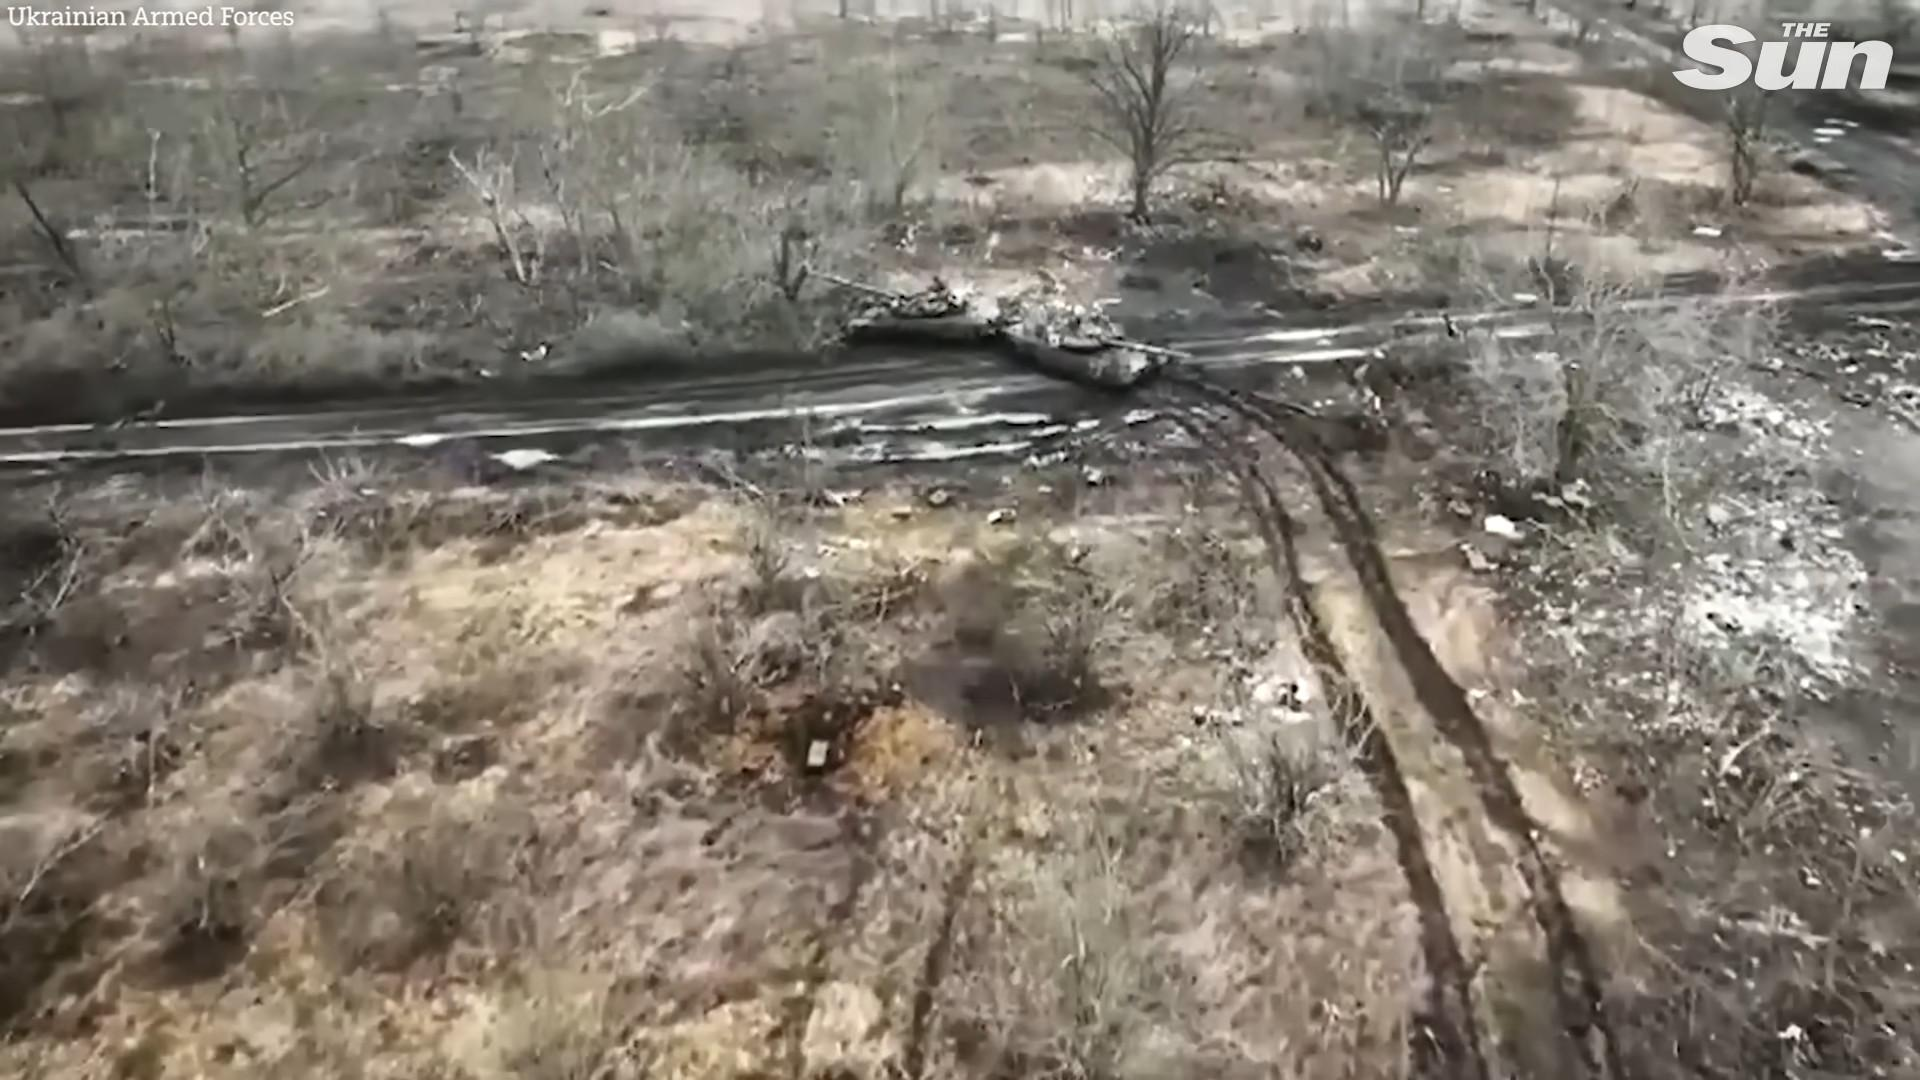tank: (992, 284, 1191, 386), (808, 270, 996, 343)
